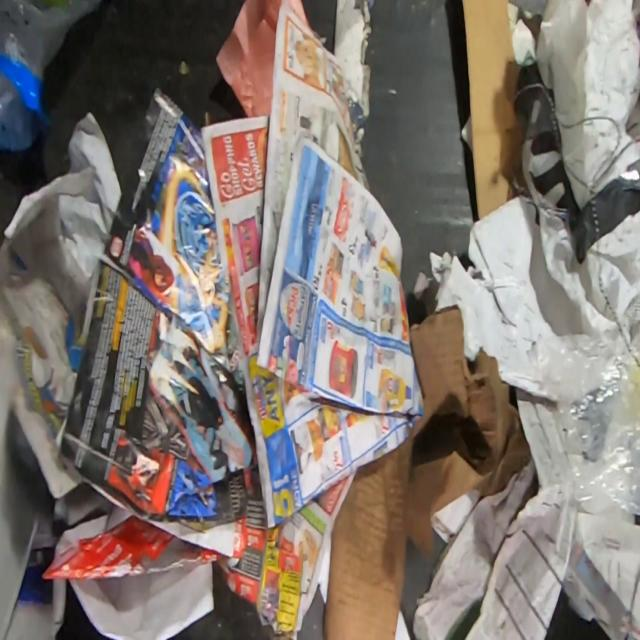cardboard: (322, 303, 532, 640), (462, 0, 526, 221)
soft_plastic: (525, 321, 640, 516), (41, 513, 224, 580)
